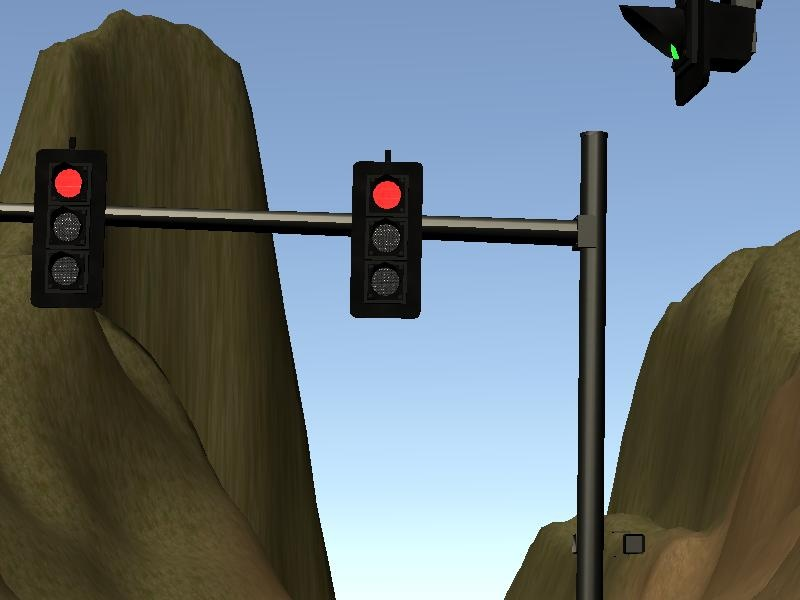red: (352, 161, 422, 320), (37, 149, 104, 308)
